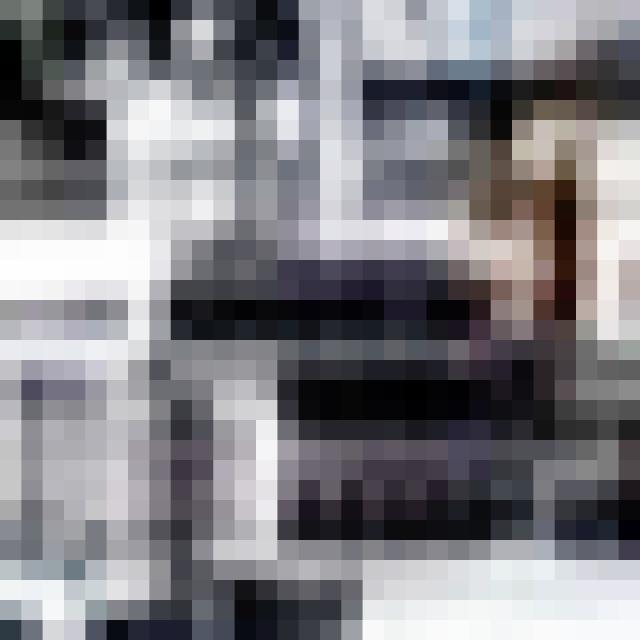arms: (170, 120, 640, 640)
